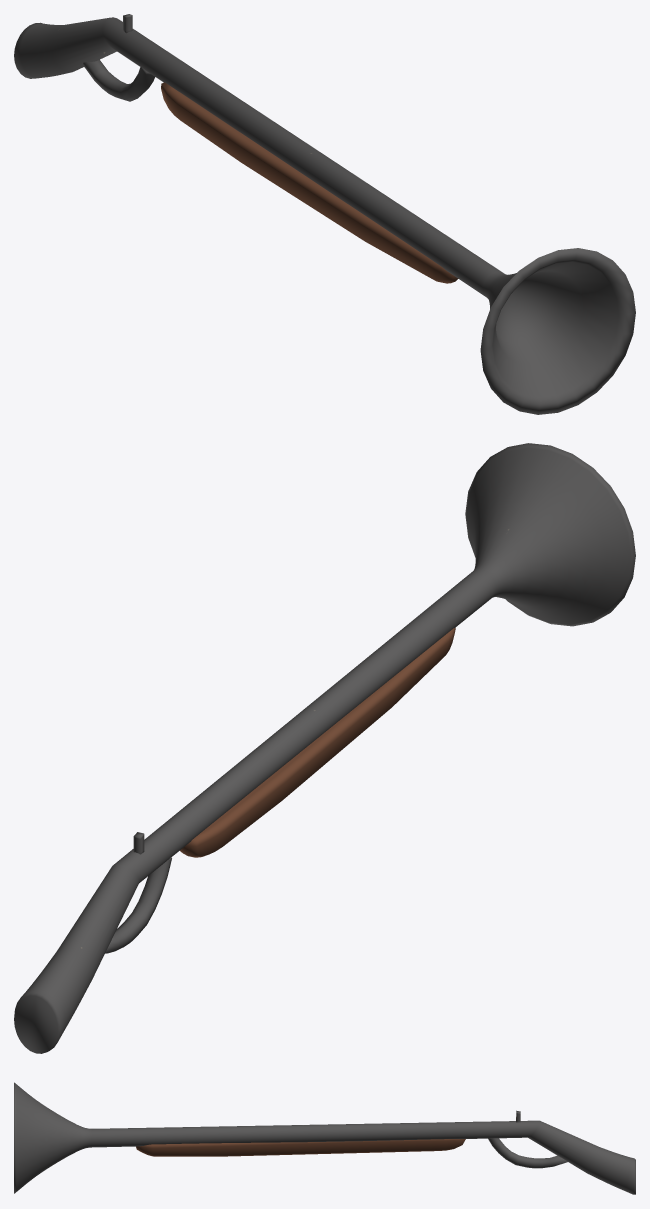
File: Rifle.fbx
3 views of the same model, one above another, from view 1: azimuth 30°, elevation 25°; view 2: azimuth 150°, elevation 25°; view 3: azimuth 270°, elevation 25° (orthographic). The views are drawn at different scales.
Visible parts, largest first — view 1: Cylinder; view 2: Cylinder; view 3: Cylinder.
Part boxes in pixels (x1=…): Cylinder: x1=14, y1=14, x2=635, y2=414; Cylinder: x1=14, y1=443, x2=635, y2=1053; Cylinder: x1=14, y1=1082, x2=635, y2=1194.
Bounding box in the file's own units: 45.12 × 50.93 × 250.
